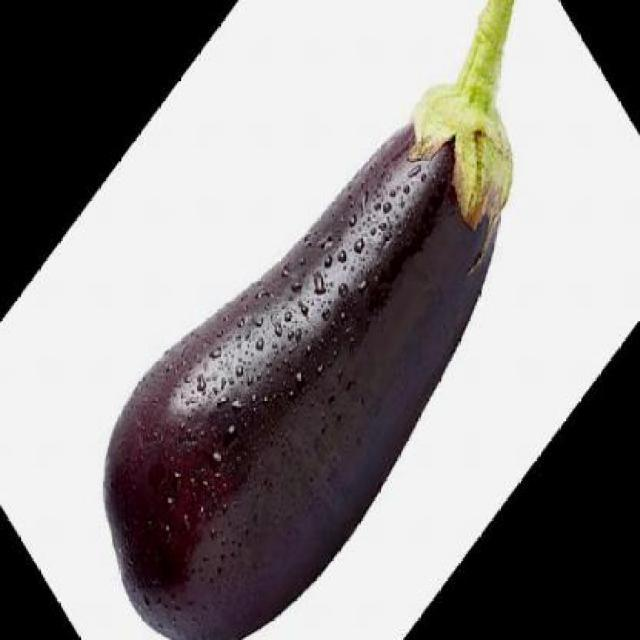eggplant: (110, 0, 524, 639)
